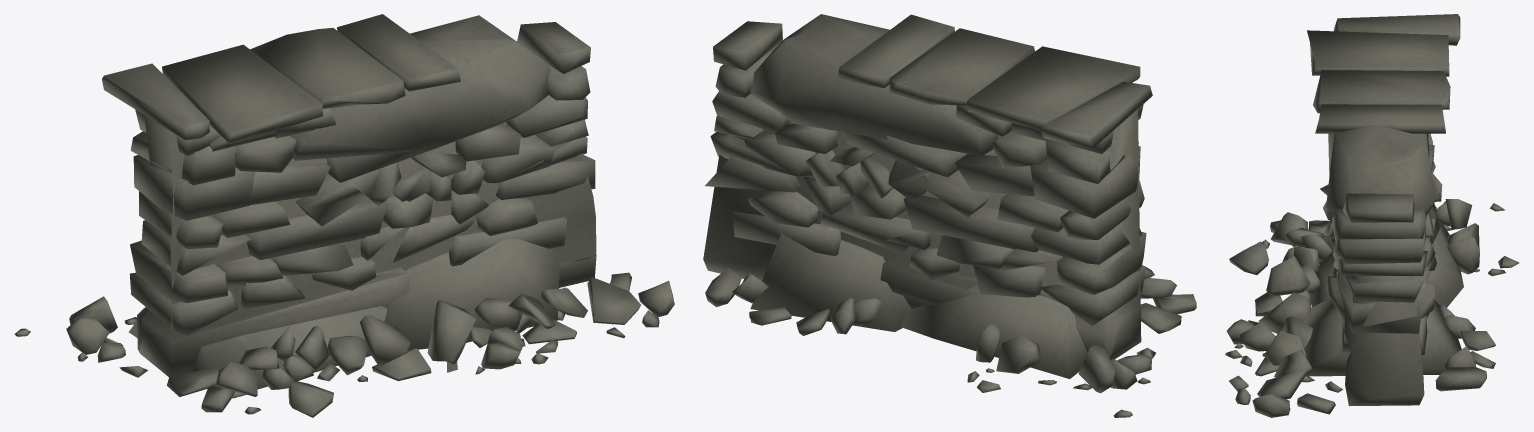
The model's file is world-ruin-wall.glb.
3 views of the same model, side by side, from view 1: azimuth 30°, elevation 25°; view 2: azimuth 150°, elevation 25°; view 3: azimuth 270°, elevation 25° (orthographic). The views are drawn at different scales.
Bounding box in the file's own units: 4 × 1.92 × 2.32.
1 material, 1 textured.
